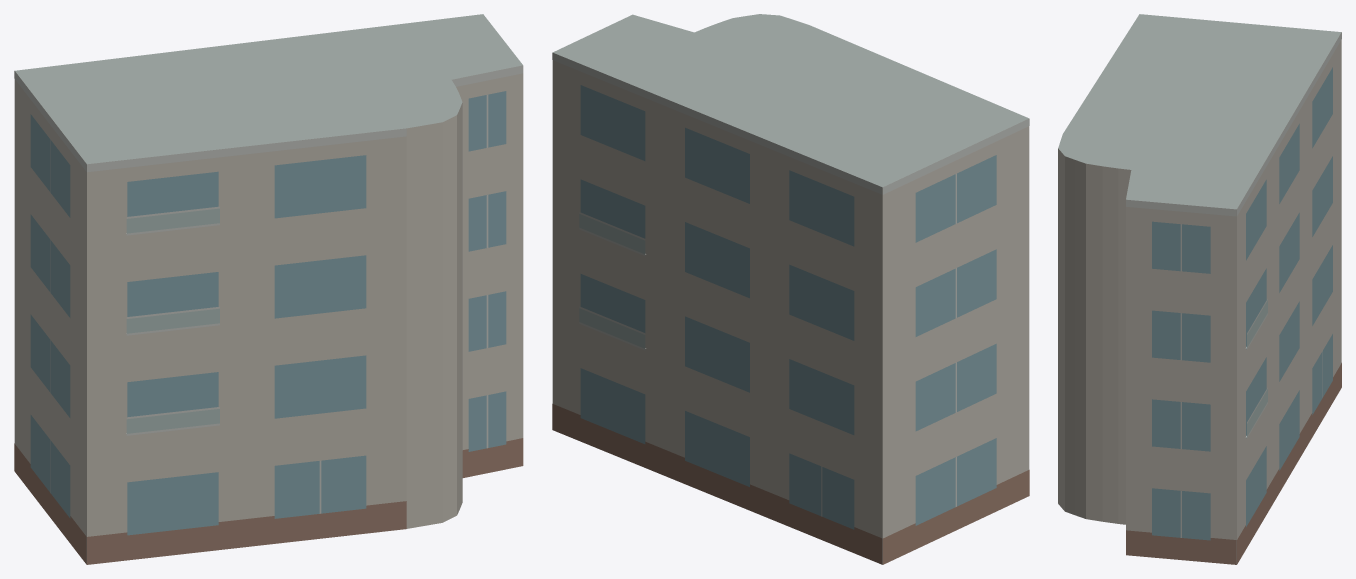
Rendered from survey-upis-32817310.glb.
The picture shows the model from 3 angles, left to right: view 1: azimuth 30°, elevation 25°; view 2: azimuth 150°, elevation 25°; view 3: azimuth 270°, elevation 25°; orthographic projection. The views are drawn at different scales.
Visible parts, largest first — view 1: survey-upis-32817310.tmp; view 2: survey-upis-32817310.tmp; view 3: survey-upis-32817310.tmp.
Boxes of the visible parts, x1=… form: survey-upis-32817310.tmp: x1=14, y1=14, x2=523, y2=564; survey-upis-32817310.tmp: x1=552, y1=14, x2=1029, y2=564; survey-upis-32817310.tmp: x1=1058, y1=14, x2=1341, y2=564.
Bounding box in the file's own units: 14.39 × 12.2 × 8.83.
